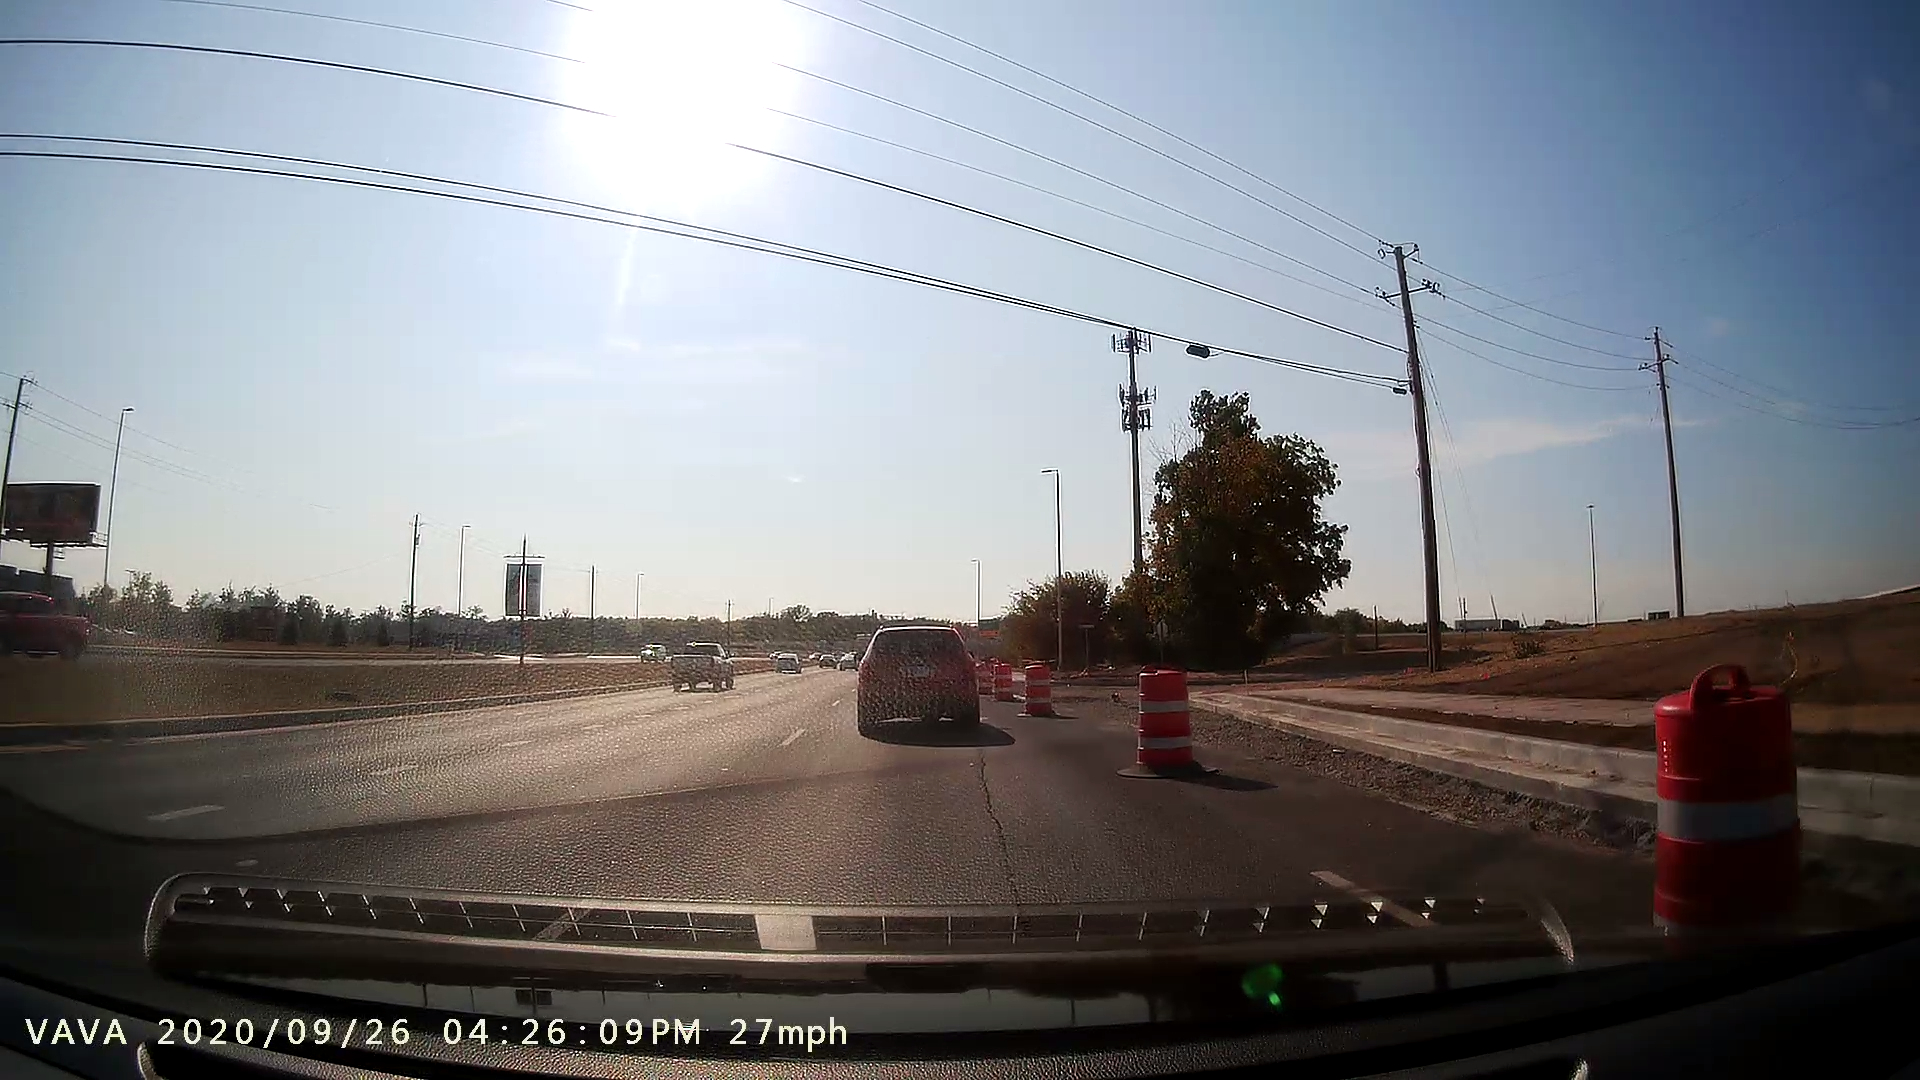const_barrel: (1106, 655, 1232, 787), (1011, 654, 1065, 724)
